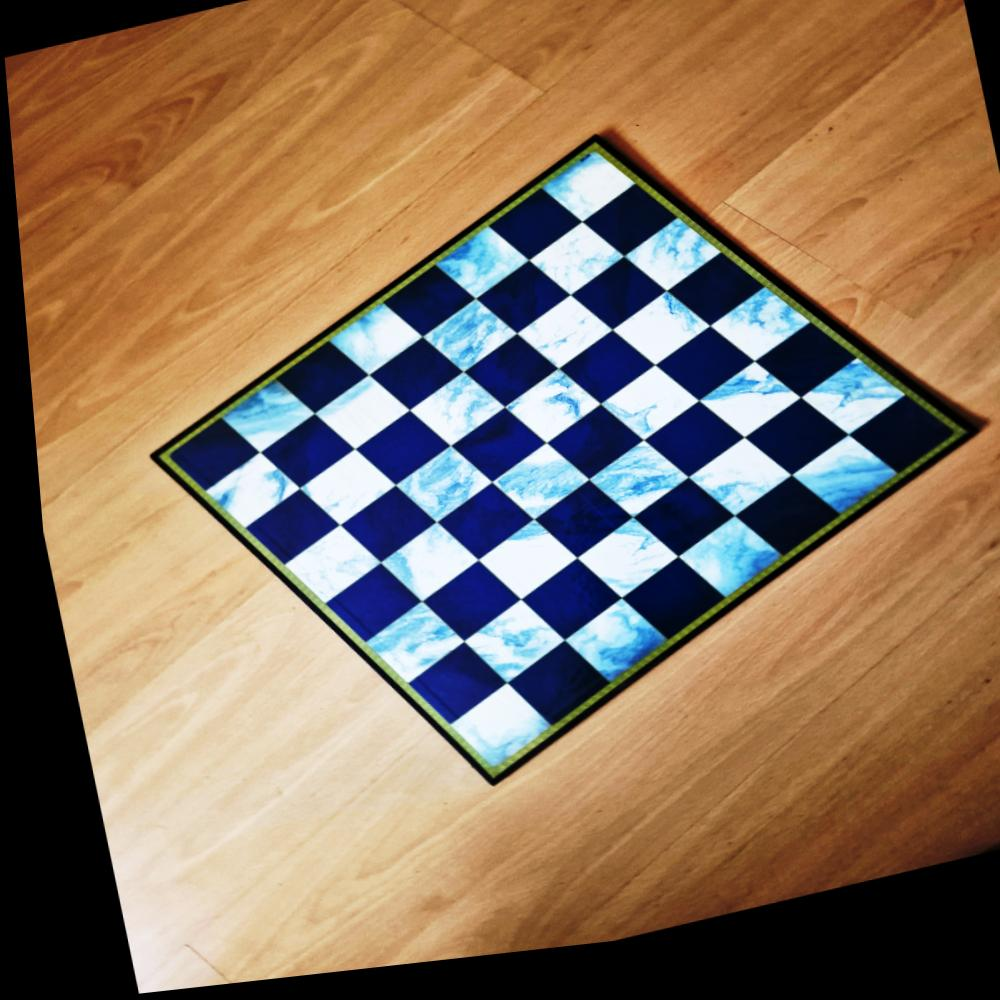chessfield: (429, 686, 550, 803), (547, 604, 669, 712), (661, 524, 783, 630), (775, 445, 898, 549), (835, 406, 954, 503), (446, 603, 561, 703), (671, 444, 788, 542), (719, 484, 835, 582), (487, 647, 600, 747), (607, 563, 721, 662), (522, 147, 638, 244), (560, 523, 675, 620), (685, 368, 799, 464), (786, 370, 900, 466), (696, 297, 811, 390), (571, 448, 684, 542), (460, 523, 572, 617), (270, 526, 382, 620), (729, 409, 842, 502), (352, 606, 459, 703), (388, 645, 497, 740), (362, 525, 473, 618), (509, 566, 620, 659), (618, 487, 728, 580), (409, 567, 519, 660), (612, 225, 724, 316), (583, 371, 694, 462), (632, 412, 742, 503), (395, 374, 506, 464), (420, 229, 528, 321), (287, 453, 396, 544), (476, 451, 585, 542), (519, 486, 628, 577), (384, 453, 494, 543), (603, 302, 713, 391), (150, 416, 260, 505), (314, 300, 421, 391), (643, 336, 753, 424), (490, 373, 597, 463), (505, 300, 612, 390), (744, 336, 852, 425), (208, 378, 313, 469), (517, 228, 624, 317), (302, 378, 408, 467), (326, 489, 432, 578), (423, 487, 528, 576), (410, 303, 516, 391), (657, 262, 764, 349), (342, 412, 448, 499), (535, 416, 641, 503), (225, 493, 331, 580), (437, 413, 542, 500), (560, 266, 665, 353), (196, 451, 297, 540), (314, 563, 416, 651), (547, 338, 650, 424), (249, 414, 352, 500), (266, 338, 369, 424), (482, 198, 585, 284), (454, 341, 556, 427), (373, 269, 474, 355), (571, 191, 673, 276), (358, 340, 460, 425), (464, 266, 566, 351)
